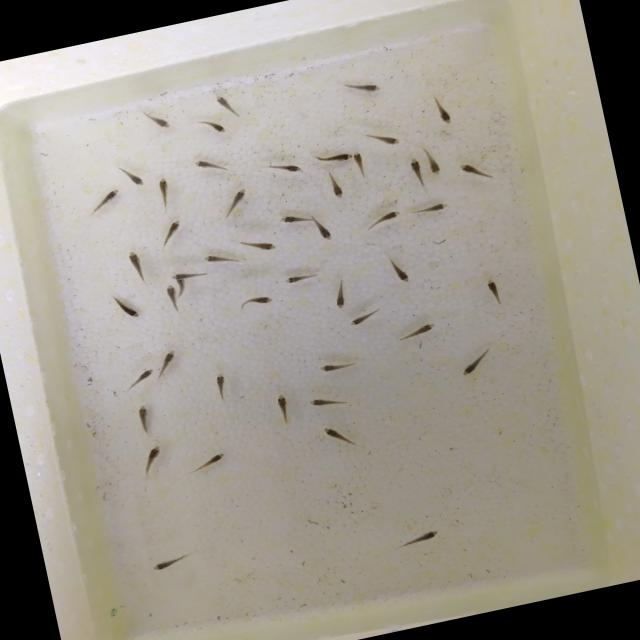fingerling: (189, 149, 235, 181), (144, 550, 196, 578), (456, 347, 496, 379), (339, 74, 386, 101), (136, 440, 168, 476), (316, 352, 362, 376), (219, 185, 252, 218), (206, 86, 244, 114), (319, 422, 354, 452), (88, 185, 125, 212), (154, 348, 186, 377), (306, 392, 348, 414), (385, 253, 412, 287), (194, 449, 232, 473), (242, 233, 281, 256), (268, 158, 308, 180), (364, 127, 402, 150), (396, 528, 444, 546), (343, 306, 382, 328), (158, 217, 186, 247), (114, 294, 140, 326), (406, 200, 449, 219), (328, 278, 351, 313), (144, 108, 172, 136), (456, 158, 490, 181), (399, 320, 436, 341), (196, 113, 227, 138), (200, 249, 238, 269), (124, 366, 158, 388), (365, 208, 401, 228), (235, 291, 272, 310), (134, 402, 154, 437), (432, 97, 454, 128), (153, 175, 174, 207), (310, 150, 352, 166), (274, 210, 310, 228), (126, 248, 145, 282), (271, 392, 292, 422), (423, 144, 442, 176), (483, 274, 503, 304), (314, 220, 338, 245), (121, 164, 144, 190), (212, 369, 230, 402), (170, 265, 208, 280), (283, 270, 318, 286), (350, 148, 367, 180), (329, 168, 345, 202), (410, 153, 424, 189), (164, 282, 180, 306), (176, 280, 186, 294)
